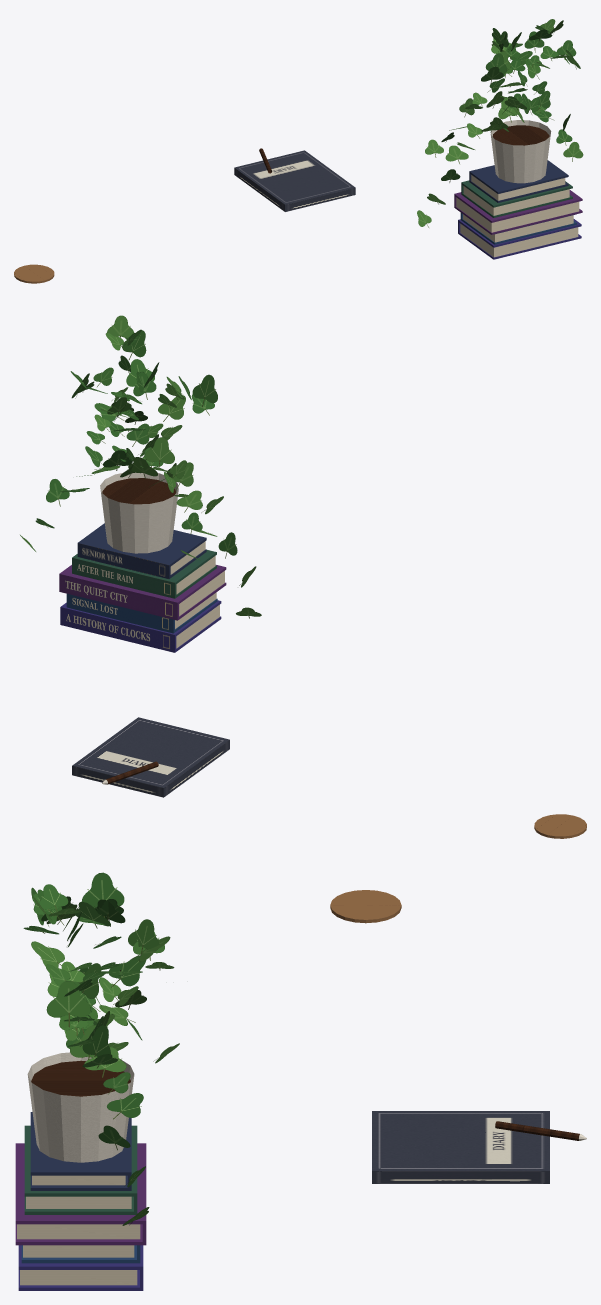
Rendered from SM_MenuProps.fbx.
3 renders of one model, top to bottom at view 1: azimuth 30°, elevation 25°; view 2: azimuth 150°, elevation 25°; view 3: azimuth 270°, elevation 25°, orthographic. The views are drawn at different scales.
Visible parts, largest first — view 1: Props; view 2: Props; view 3: Props.
Part boxes in pixels (x1,y1,x2,y2): Props: (14, 19, 583, 283); Props: (20, 315, 586, 838); Props: (15, 872, 586, 1290).
Size of the model in its own units: 1.72 by 0.716 by 0.9656.
Materials: 7 (7 with a texture image).
